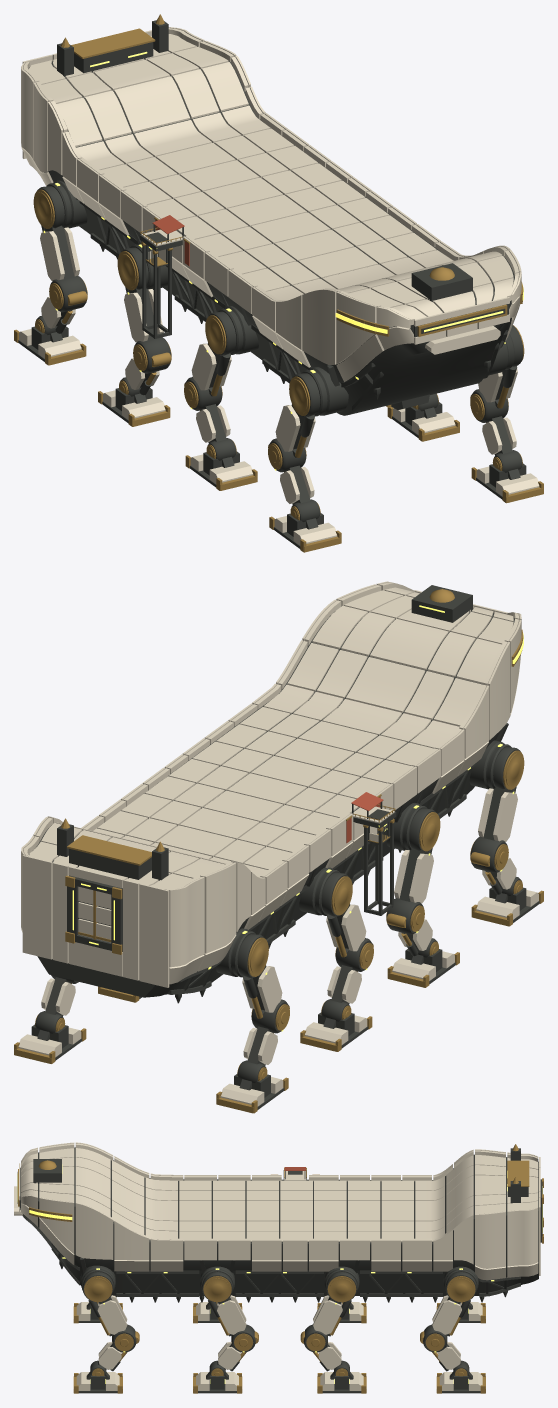
File: ordo.glb
3 renders of one model, top to bottom at view 1: azimuth 30°, elevation 25°; view 2: azimuth 150°, elevation 25°; view 3: azimuth 270°, elevation 25°, orthographic. The views are drawn at different scales.
Parts seen in each view (by area): view 1: body, body_graphite, body_brass, lift_guide, leg_r4_shoulder, leg_r4_shoulder_graphite, leg_l1_ankle_graphite, leg_r1_ankle_graphite, leg_r2_ankle_graphite, leg_r2_shoulder, leg_r1_shoulder, leg_r3_shoulder (+26 smaller); view 2: body, body_graphite, body_brass, door, lift_guide, leg_r1_shoulder, leg_r2_shoulder, leg_r1_shoulder_graphite, leg_r2_shoulder_graphite, leg_r3_ankle_graphite, leg_l4_ankle_graphite, leg_r4_ankle_graphite (+23 smaller); view 3: body, body_graphite, body_brass, leg_l3_shoulder, leg_l2_shoulder, leg_l1_shoulder, leg_l4_shoulder, leg_l2_shoulder_brass, leg_l1_shoulder_brass, leg_l3_shoulder_brass, leg_l4_shoulder_brass, leg_l2_ankle_graphite (+20 smaller).
Part boxes in pixels (left/top/right/bottom): body: left=21, top=27, right=521, bottom=381; body_graphite: left=29, top=20, right=519, bottom=415; body_brass: left=61, top=14, right=523, bottom=407; lift_guide: left=142, top=242, right=171, bottom=338; leg_r4_shoulder: left=40, top=227, right=79, bottom=280; leg_r4_shoulder_graphite: left=37, top=186, right=74, bottom=279; leg_l1_ankle_graphite: left=476, top=450, right=526, bottom=499; leg_r1_ankle_graphite: left=273, top=499, right=323, bottom=548; leg_r2_ankle_graphite: left=189, top=438, right=239, bottom=487; leg_r2_shoulder: left=191, top=343, right=231, bottom=390; leg_r1_shoulder: left=275, top=405, right=315, bottom=451; leg_r3_shoulder: left=124, top=289, right=163, bottom=342; body: left=21, top=581, right=521, bottom=987; body_graphite: left=28, top=585, right=519, bottom=1003; body_brass: left=61, top=589, right=523, bottom=954; door: left=78, top=886, right=111, bottom=942; lift_guide: left=364, top=819, right=393, bottom=915; leg_r1_shoulder: left=478, top=788, right=517, bottom=841; leg_r2_shoulder: left=394, top=850, right=433, bottom=903; leg_r1_shoulder_graphite: left=483, top=747, right=520, bottom=840; leg_r2_shoulder_graphite: left=399, top=808, right=436, bottom=901; leg_r3_ankle_graphite: left=318, top=999, right=368, bottom=1048; leg_l4_ankle_graphite: left=31, top=1011, right=81, bottom=1060; leg_r4_ankle_graphite: left=234, top=1060, right=284, bottom=1109; body: left=14, top=1142, right=540, bottom=1280; body_graphite: left=17, top=1147, right=542, bottom=1302; body_brass: left=18, top=1144, right=543, bottom=1243; leg_l3_shoulder: left=313, top=1295, right=342, bottom=1334; leg_l2_shoulder: left=217, top=1295, right=246, bottom=1334; leg_l1_shoulder: left=97, top=1295, right=127, bottom=1334; leg_l4_shoulder: left=432, top=1295, right=461, bottom=1334; leg_l2_shoulder_brass: left=203, top=1276, right=231, bottom=1335; leg_l1_shoulder_brass: left=84, top=1276, right=112, bottom=1335; leg_l3_shoulder_brass: left=327, top=1276, right=356, bottom=1335; leg_l4_shoulder_brass: left=447, top=1276, right=475, bottom=1335; leg_l2_ankle_graphite: left=198, top=1360, right=236, bottom=1393.
Size of the model in its own units: 152 by 163 by 409.
